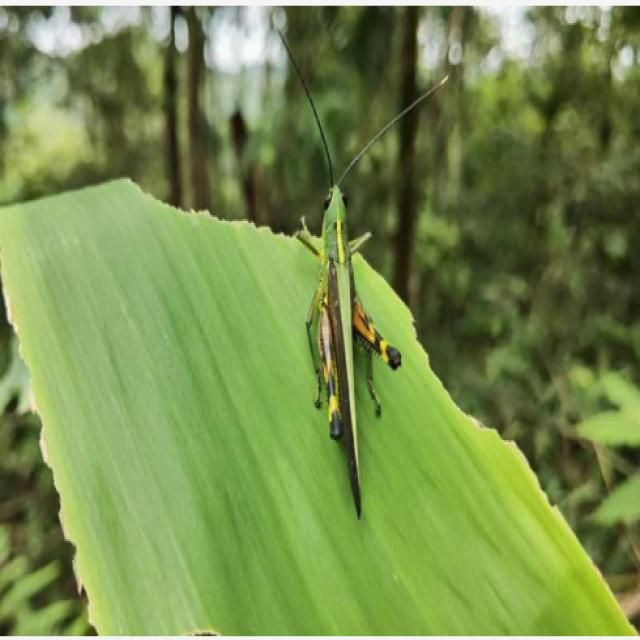ZhaMeng: (279, 167, 400, 511)
